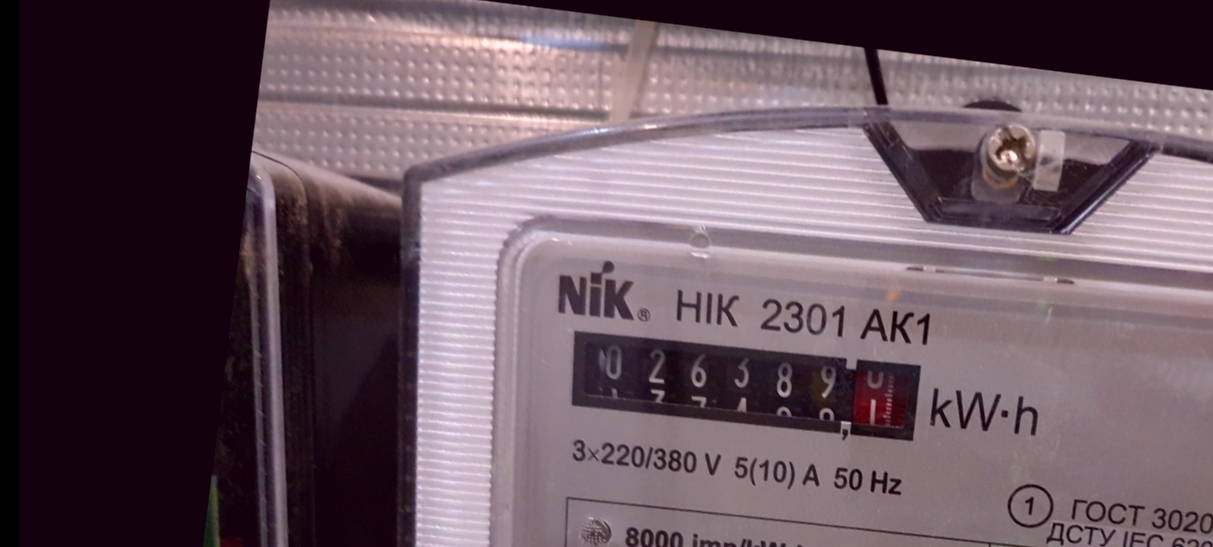0: (602, 339, 630, 381), (867, 367, 888, 390)
1: (867, 394, 883, 426)
2: (646, 344, 674, 385)
3: (734, 354, 755, 390)
6: (690, 348, 713, 389)
8: (775, 358, 800, 399)
9: (819, 363, 841, 399)
screen: (553, 309, 942, 460)
